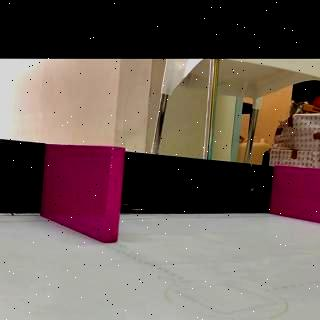xparking: (46, 146, 122, 243), (275, 168, 320, 224)
